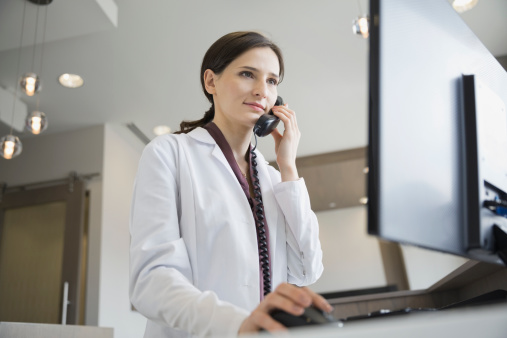em pe: (130, 15, 325, 338)
